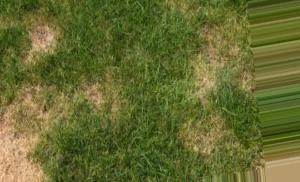patch: (1, 105, 48, 182), (184, 116, 230, 157), (194, 47, 229, 100), (75, 82, 117, 116), (25, 26, 61, 55)
